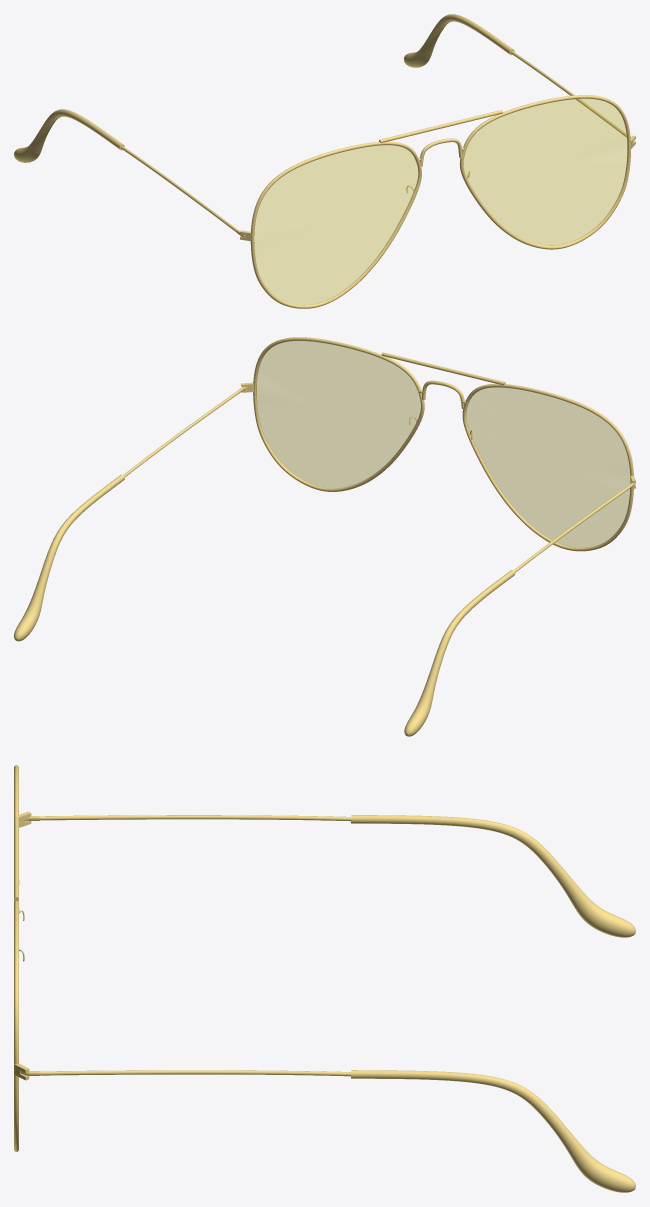
The model's file is model_7_gold.glb.
3 views of the same model, one above another, from view 1: azimuth 30°, elevation 25°; view 2: azimuth 150°, elevation 25°; view 3: azimuth 270°, elevation 25° (orthographic). The views are drawn at different scales.
Visible parts, largest first — view 1: model_7_emas; view 2: model_7_emas; view 3: model_7_emas.
Boxes of the visible parts, left/top/right/bottom form: model_7_emas: left=14, top=14, right=635, bottom=308; model_7_emas: left=14, top=337, right=635, bottom=736; model_7_emas: left=14, top=765, right=635, bottom=1192.
Bounding box in the file's own units: 2232 × 820 × 2228.
